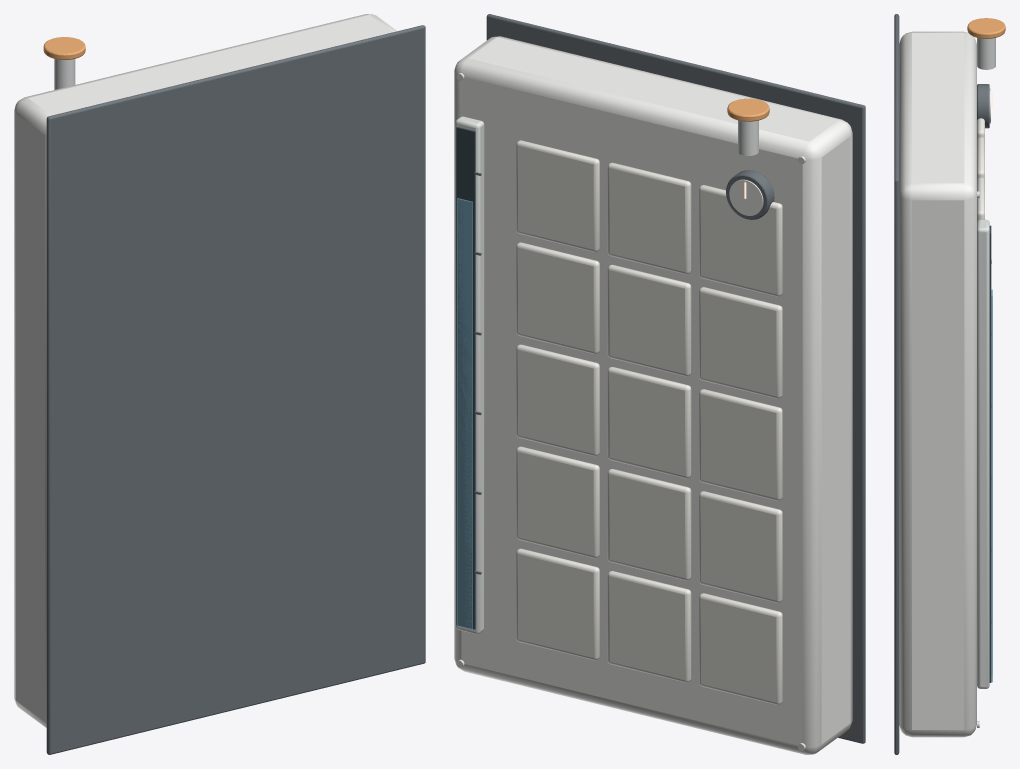
The model's file is water_wall_panel.glb.
The picture shows the model from 3 angles, left to right: view 1: azimuth 30°, elevation 25°; view 2: azimuth 150°, elevation 25°; view 3: azimuth 270°, elevation 25°; orthographic projection. The views are drawn at different scales.
Parts seen in each view (by area): view 1: frame_backplate_graphite, tank_shell_white_painted, fill_valve_wheel_orange; view 2: tank_shell_white_painted, bladder_cushions_warm_shell, frame_backplate_graphite, sight_glass_dark_glass, water_level_water_blue, sight_frame_satin_steel, gauge_face_white_painted, gauge_body_graphite, fill_valve_wheel_orange, fill_pipe_satin_steel; view 3: tank_shell_white_painted, sight_frame_satin_steel, frame_backplate_graphite, sight_glass_dark_glass, bladder_cushions_warm_shell, water_level_water_blue, fill_valve_wheel_orange, fill_pipe_satin_steel, gauge_body_graphite.
Boxes of the visible parts, <box> form: frame_backplate_graphite: <box>46,25,425,754</box>; tank_shell_white_painted: <box>14,14,397,727</box>; fill_valve_wheel_orange: <box>43,37,85,59</box>; tank_shell_white_painted: <box>454,36,852,754</box>; bladder_cushions_warm_shell: <box>516,140,782,704</box>; frame_backplate_graphite: <box>486,14,865,743</box>; sight_glass_dark_glass: <box>456,127,475,629</box>; water_level_water_blue: <box>457,198,472,629</box>; sight_frame_satin_steel: <box>455,116,484,634</box>; gauge_face_white_painted: <box>729,179,763,215</box>; gauge_body_graphite: <box>726,170,774,219</box>; fill_valve_wheel_orange: <box>727,98,769,121</box>; fill_pipe_satin_steel: <box>738,120,758,155</box>; tank_shell_white_painted: <box>899,31,976,737</box>; sight_frame_satin_steel: <box>977,219,989,688</box>; frame_backplate_graphite: <box>894,14,899,754</box>; sight_glass_dark_glass: <box>989,225,991,682</box>; bladder_cushions_warm_shell: <box>977,118,984,221</box>; water_level_water_blue: <box>991,289,992,682</box>; fill_valve_wheel_orange: <box>967,18,1005,38</box>; fill_pipe_satin_steel: <box>977,38,995,69</box>; gauge_body_graphite: <box>977,84,989,128</box>.
Size of the model in its own units: 1.24 by 2.06 by 0.35.
